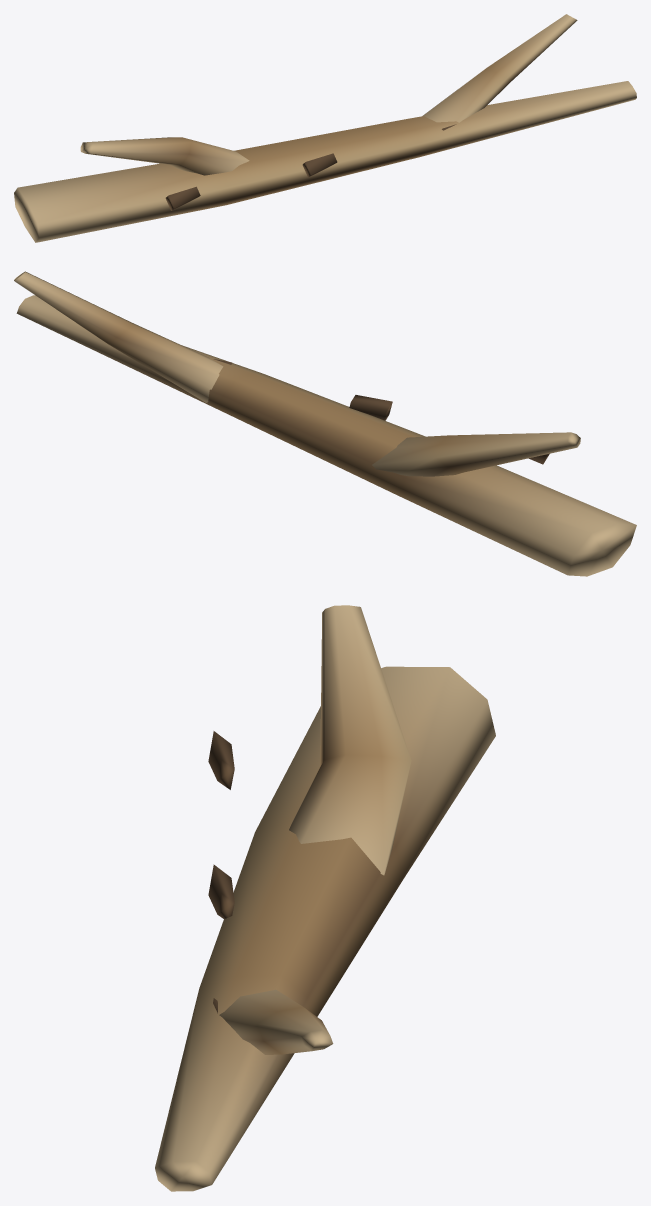
File: beach-debris-branch-v1.glb
3 views of the same model, one above another, from view 1: azimuth 30°, elevation 25°; view 2: azimuth 150°, elevation 25°; view 3: azimuth 270°, elevation 25° (orthographic). The views are drawn at different scales.
Parts seen in each view (by area): view 1: beach-debris-branch-v1; view 2: beach-debris-branch-v1; view 3: beach-debris-branch-v1.
Part boxes in pixels (x1,y1,x2,y2): beach-debris-branch-v1: (14,14,636,242); beach-debris-branch-v1: (14,271,636,576); beach-debris-branch-v1: (155,605,495,1191).
Bounding box in the file's own units: 1.91 × 0.3695 × 0.5053.
